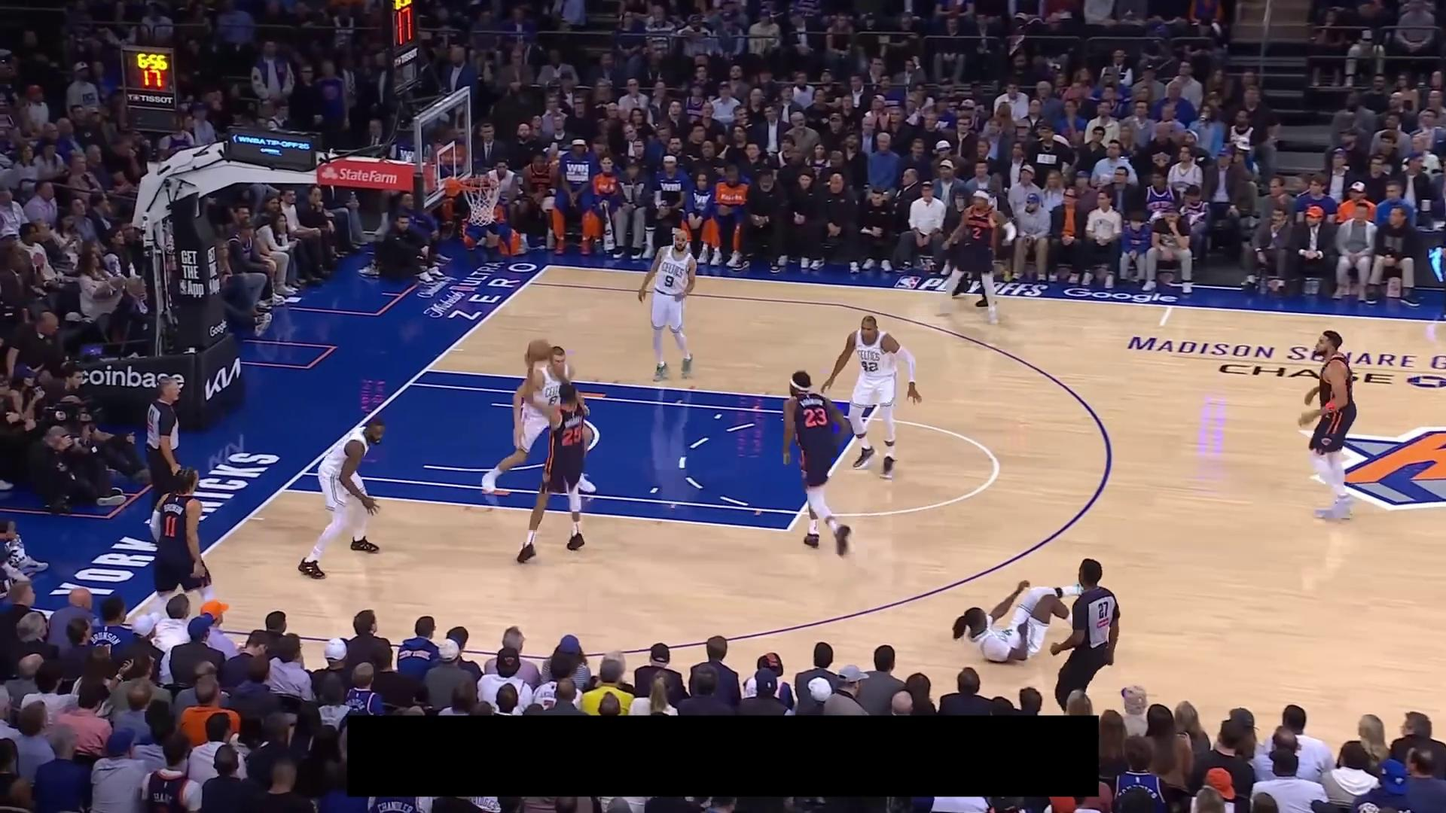ball: (529, 339, 550, 360)
number: (803, 407, 828, 428), (562, 427, 581, 445), (860, 359, 880, 374), (164, 515, 177, 538), (663, 273, 675, 289), (548, 395, 559, 408), (972, 226, 982, 240), (1002, 628, 1013, 636)
player: (820, 314, 924, 481), (481, 346, 597, 494), (297, 417, 386, 580), (780, 368, 855, 555), (1297, 328, 1359, 522), (953, 580, 1084, 663), (149, 465, 214, 618), (637, 228, 698, 382), (938, 188, 1002, 325)
player-in-possession: (516, 349, 587, 565)
referee: (1051, 559, 1121, 715), (144, 376, 185, 539)
rim: (458, 175, 500, 191)
